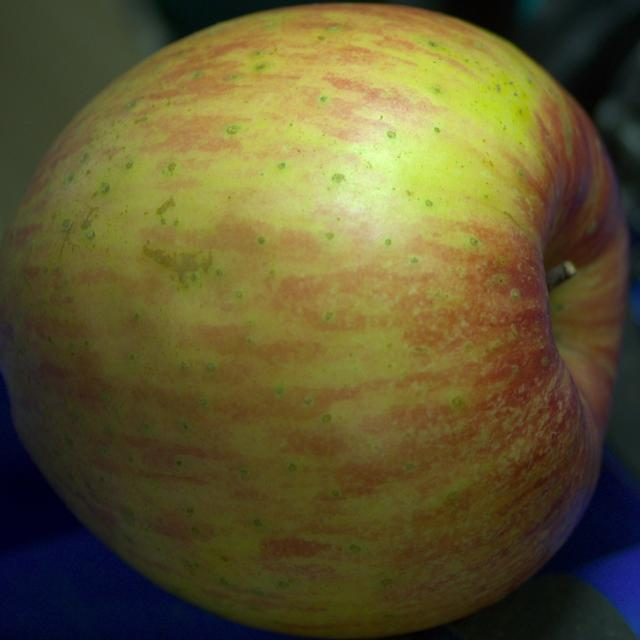apple: (0, 4, 628, 638)
